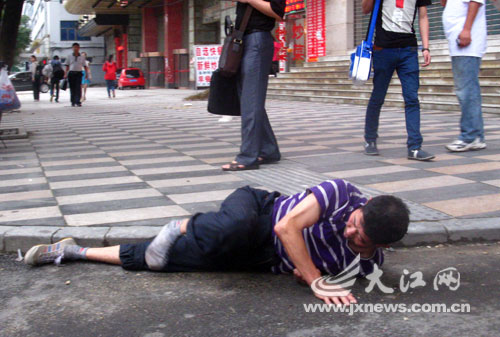fall: (21, 172, 417, 302)
